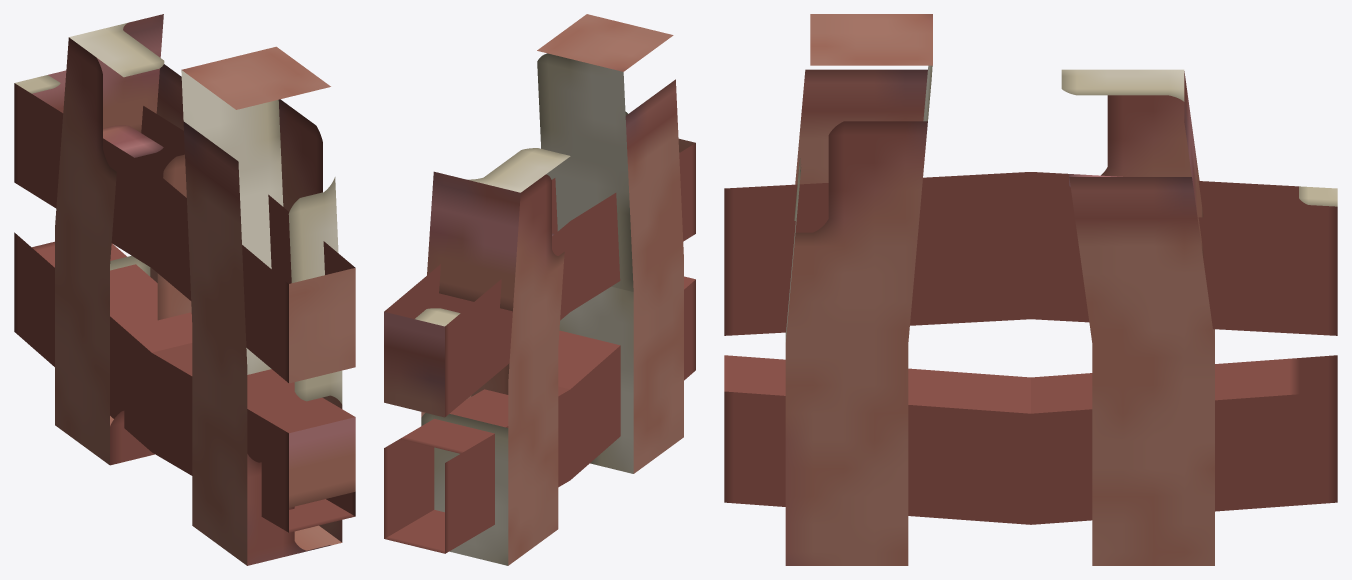
The model's file is fence_end.obj.
The picture shows the model from 3 angles, left to right: view 1: azimuth 30°, elevation 25°; view 2: azimuth 150°, elevation 25°; view 3: azimuth 270°, elevation 25°; orthographic projection. The views are drawn at different scales.
Visible parts, largest first — view 1: cuboid; view 2: cuboid; view 3: cuboid.
Boxes of the visible parts, <box> form: cuboid: <box>14,14,355,565</box>; cuboid: <box>384,14,695,565</box>; cuboid: <box>724,14,1337,565</box>.
Size of the model in its own units: 0.125 by 0.5625 by 0.625.
